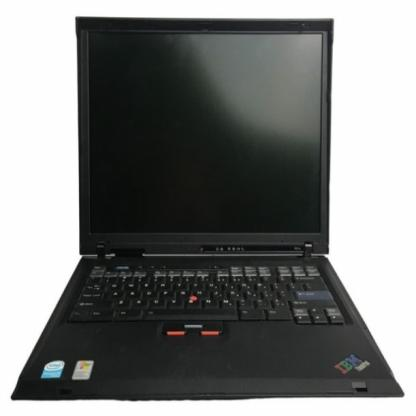NOTEBOOK: (57, 9, 416, 416)
